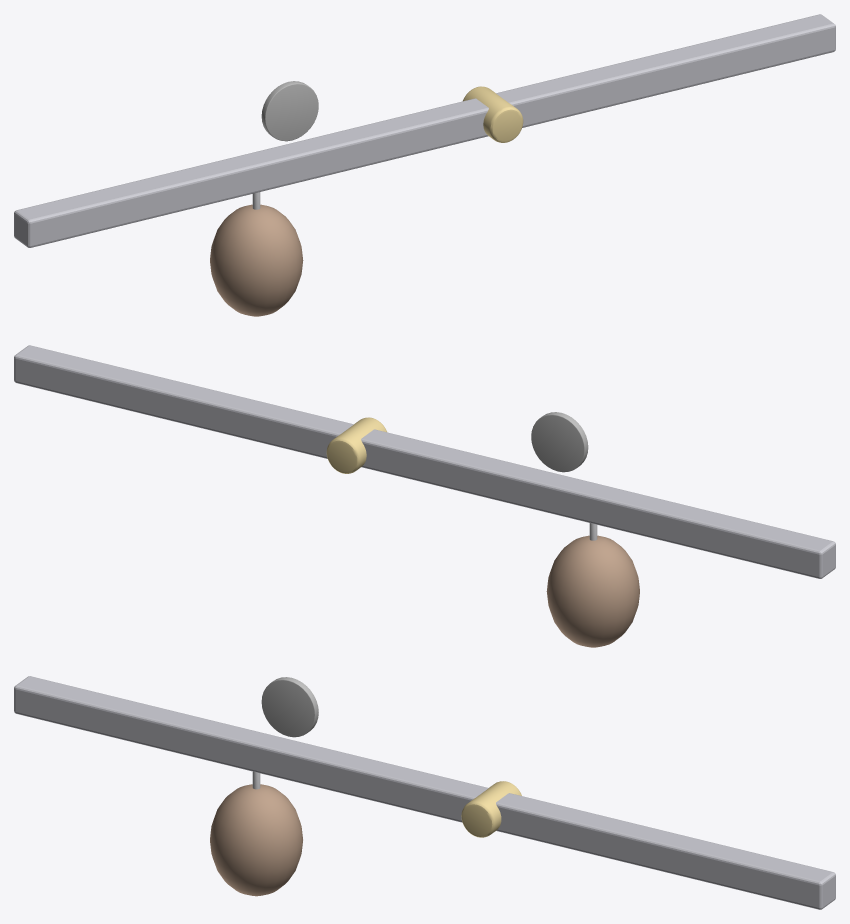
File: balance_romaine_v1.glb
3 views of the same model, one above another, from view 1: azimuth 30°, elevation 25°; view 2: azimuth 150°, elevation 25°; view 3: azimuth 330°, elevation 25° (orthographic).
Parts seen in each view (by area): view 1: fleau, sac_pwa, pivot_anneau, pilon; view 2: fleau, sac_pwa, pivot_anneau, pilon; view 3: fleau, sac_pwa, pivot_anneau, pilon.
Part boxes in pixels (box(x1,y1,x2,y2)): fleau: box(14, 14, 835, 247); sac_pwa: box(210, 204, 303, 316); pivot_anneau: box(261, 81, 318, 141); pilon: box(463, 86, 523, 142); fleau: box(14, 345, 835, 578); sac_pwa: box(546, 535, 639, 647); pivot_anneau: box(531, 412, 588, 472); pilon: box(326, 417, 386, 473); fleau: box(14, 676, 835, 909); sac_pwa: box(210, 784, 302, 896); pivot_anneau: box(261, 677, 318, 737); pilon: box(461, 781, 521, 837).
Size of what is drawn, in the model's own units: 2.4 by 0.63 by 0.24.
